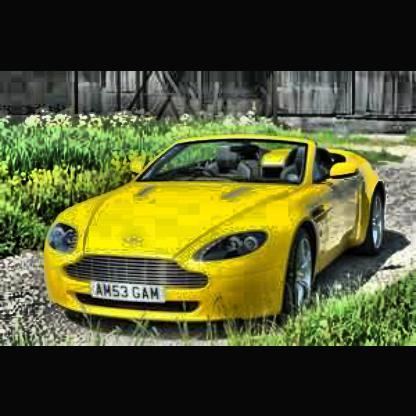Aston Martin V8 Vantage Convertible 2012: (34, 135, 402, 331)
